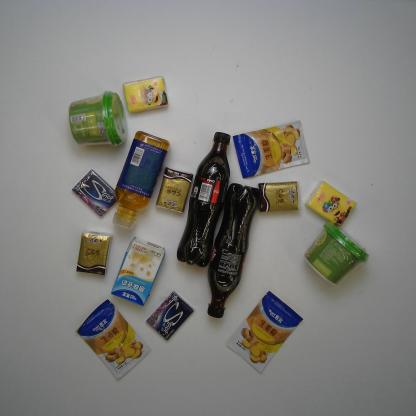Drink: (176, 131, 231, 269), (206, 182, 259, 320), (112, 130, 171, 232)
Gum: (145, 289, 195, 342), (71, 169, 118, 218)
Instant Drink: (302, 221, 371, 290), (66, 89, 129, 149)
Milk: (110, 235, 166, 308)
Seasoner: (226, 288, 304, 374), (74, 298, 153, 381), (231, 118, 311, 180)
Tissue: (304, 180, 358, 227), (121, 74, 170, 115), (74, 228, 115, 277), (155, 165, 194, 215), (256, 180, 301, 214)
